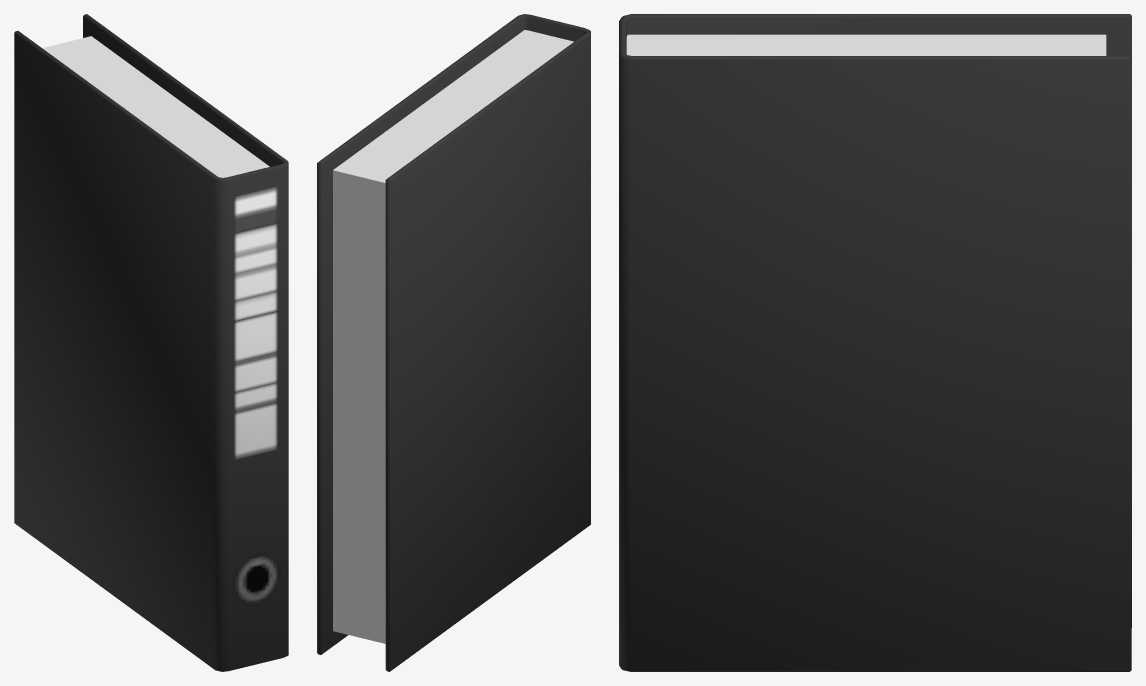
Rendered from office folder7.FBX.
3 views of the same model, side by side, from view 1: azimuth 30°, elevation 25°; view 2: azimuth 150°, elevation 25°; view 3: azimuth 270°, elevation 25° (orthographic). The views are drawn at different scales.
Parts seen in each view (by area): view 1: office folder7; view 2: office folder7; view 3: office folder7.
Part boxes in pixels (left/top/right/bottom): office folder7: left=14, top=14, right=288, bottom=671; office folder7: left=317, top=14, right=590, bottom=671; office folder7: left=619, top=14, right=1131, bottom=671.
Size of the model in its own units: 1.78 by 8.57 by 11.33.
1 material, 1 textured.
